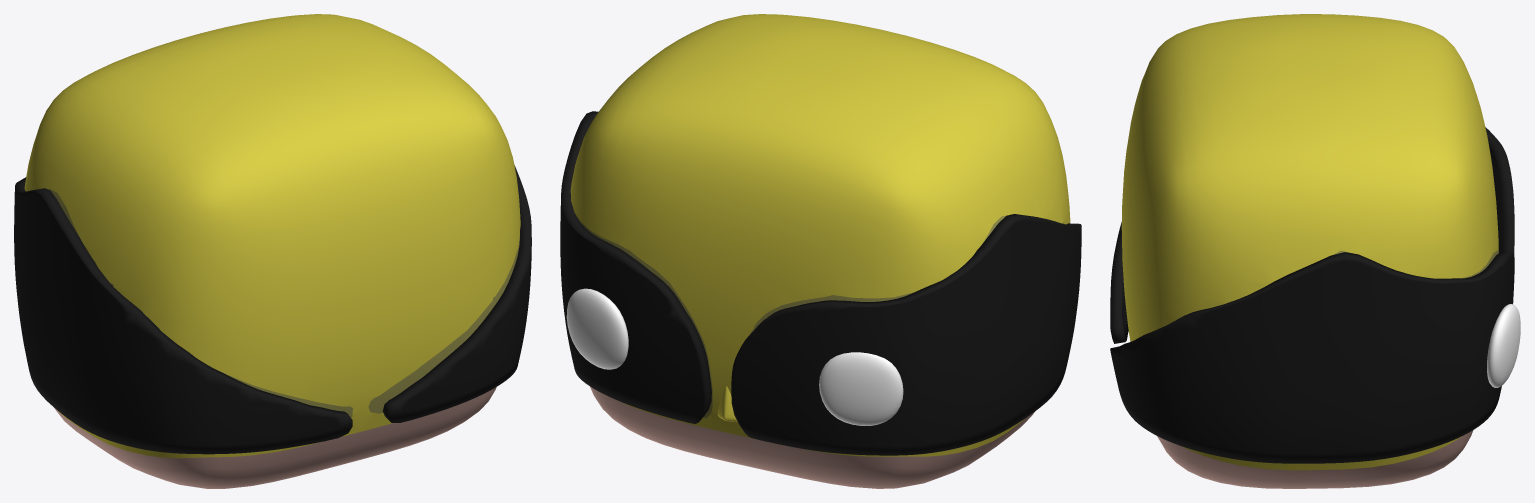
The model's file is Wolverine2.fbx.
3 views of the same model, side by side, from view 1: azimuth 30°, elevation 25°; view 2: azimuth 150°, elevation 25°; view 3: azimuth 270°, elevation 25° (orthographic).
Parts seen in each view (by area): view 1: HeadWithoutMask, Mask, HeadBottom, HeadBehindMask; view 2: HeadWithoutMask, Mask, HeadBottom, Eyes, HeadBehindMask; view 3: HeadWithoutMask, Mask, HeadBottom, Eyes.
Boxes of the visible parts, x1,y1,x2,y2 form: HeadWithoutMask: [24, 14, 520, 458]; Mask: [14, 165, 531, 454]; HeadBottom: [54, 387, 496, 488]; HeadBehindMask: [48, 189, 519, 417]; HeadWithoutMask: [570, 14, 1070, 456]; Mask: [560, 111, 1081, 455]; HeadBottom: [590, 386, 1035, 488]; Eyes: [566, 288, 903, 425]; HeadBehindMask: [574, 212, 1063, 418]; HeadWithoutMask: [1121, 14, 1498, 470]; Mask: [1110, 127, 1514, 463]; HeadBottom: [1157, 430, 1473, 488]; Eyes: [1487, 304, 1520, 387].
Bounding box in the file's own units: 43.13 × 35.5 × 35.66.
